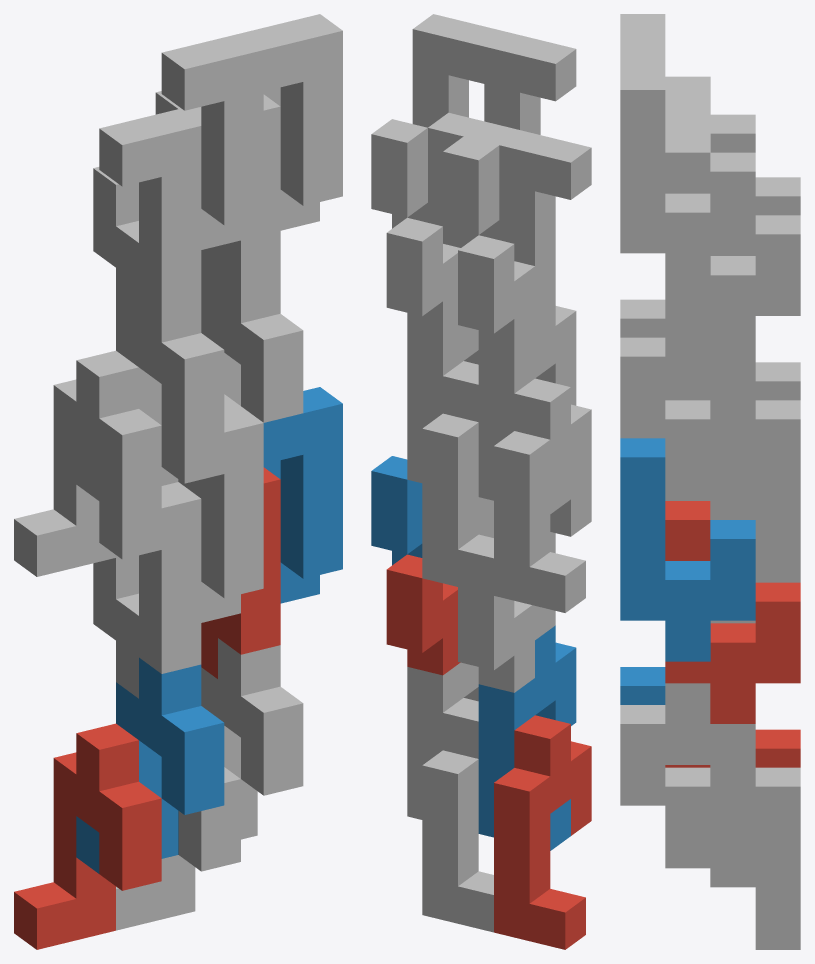
The model's file is tiling.obj.
The picture shows the model from 3 angles, left to right: view 1: azimuth 30°, elevation 25°; view 2: azimuth 150°, elevation 25°; view 3: azimuth 270°, elevation 25°; orthographic projection. The views are drawn at different scales.
Parts seen in each view (by area): view 1: copy_1_domain_1, copy_1_domain_3, copy_2_domain_3, copy_2_domain_1, copy_2_domain_4, copy_2_domain_8, copy_1_domain_2, copy_2_domain_2, copy_1_domain_4, copy_2_domain_6, copy_1_domain_6, copy_1_domain_8 (+3 smaller); view 2: copy_2_domain_3, copy_1_domain_1, copy_1_domain_3, copy_2_domain_4, copy_1_domain_7, copy_1_domain_5, copy_2_domain_8, copy_2_domain_7, copy_1_domain_2, copy_1_domain_4, copy_2_domain_1, copy_2_domain_5 (+4 smaller); view 3: copy_2_domain_8, copy_2_domain_6, copy_1_domain_8, copy_1_domain_6, copy_2_domain_7, copy_1_domain_5, copy_2_domain_5, copy_1_domain_7, copy_2_domain_3, copy_2_domain_4, copy_1_domain_3, copy_1_domain_1 (+2 smaller).
Boxes of the visible parts, x1,y1,x2,y2 form: copy_1_domain_1: [14, 723, 161, 949]; copy_1_domain_3: [14, 350, 161, 576]; copy_2_domain_3: [93, 109, 201, 325]; copy_2_domain_1: [93, 482, 201, 698]; copy_2_domain_4: [155, 33, 263, 249]; copy_2_domain_8: [241, 14, 342, 230]; copy_1_domain_2: [76, 657, 224, 873]; copy_2_domain_2: [161, 406, 263, 622]; copy_1_domain_4: [76, 285, 224, 500]; copy_2_domain_6: [263, 387, 342, 603]; copy_1_domain_6: [201, 638, 303, 839]; copy_1_domain_8: [201, 265, 303, 422]; copy_2_domain_3: [458, 130, 591, 355]; copy_1_domain_1: [494, 715, 591, 949]; copy_1_domain_3: [494, 378, 591, 612]; copy_2_domain_4: [443, 31, 576, 245]; copy_1_domain_7: [422, 361, 493, 595]; copy_1_domain_5: [422, 698, 493, 932]; copy_2_domain_8: [371, 14, 504, 228]; copy_2_domain_7: [386, 112, 519, 338]; copy_1_domain_2: [478, 625, 576, 850]; copy_1_domain_4: [478, 289, 576, 513]; copy_2_domain_1: [458, 484, 591, 692]; copy_2_domain_5: [386, 554, 460, 675]; copy_2_domain_8: [620, 52, 755, 294]; copy_2_domain_6: [620, 438, 755, 661]; copy_1_domain_8: [620, 316, 755, 519]; copy_1_domain_6: [620, 683, 755, 887]; copy_2_domain_7: [665, 114, 800, 356]; copy_1_domain_5: [665, 767, 800, 949]; copy_2_domain_5: [665, 501, 800, 723]; copy_1_domain_7: [665, 400, 800, 582]; copy_2_domain_3: [665, 76, 800, 255]; copy_2_domain_4: [620, 14, 755, 152]; copy_1_domain_3: [665, 362, 800, 400]; copy_1_domain_1: [665, 729, 800, 767].
Bounding box in the file's own units: 6 × 22 × 4.
